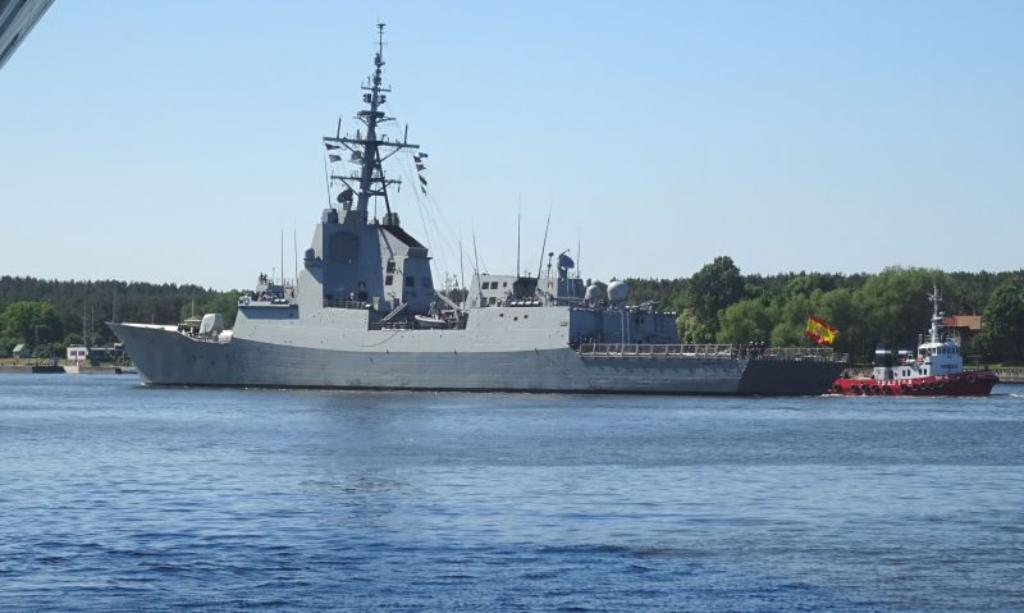Warship: (90, 5, 844, 394)
